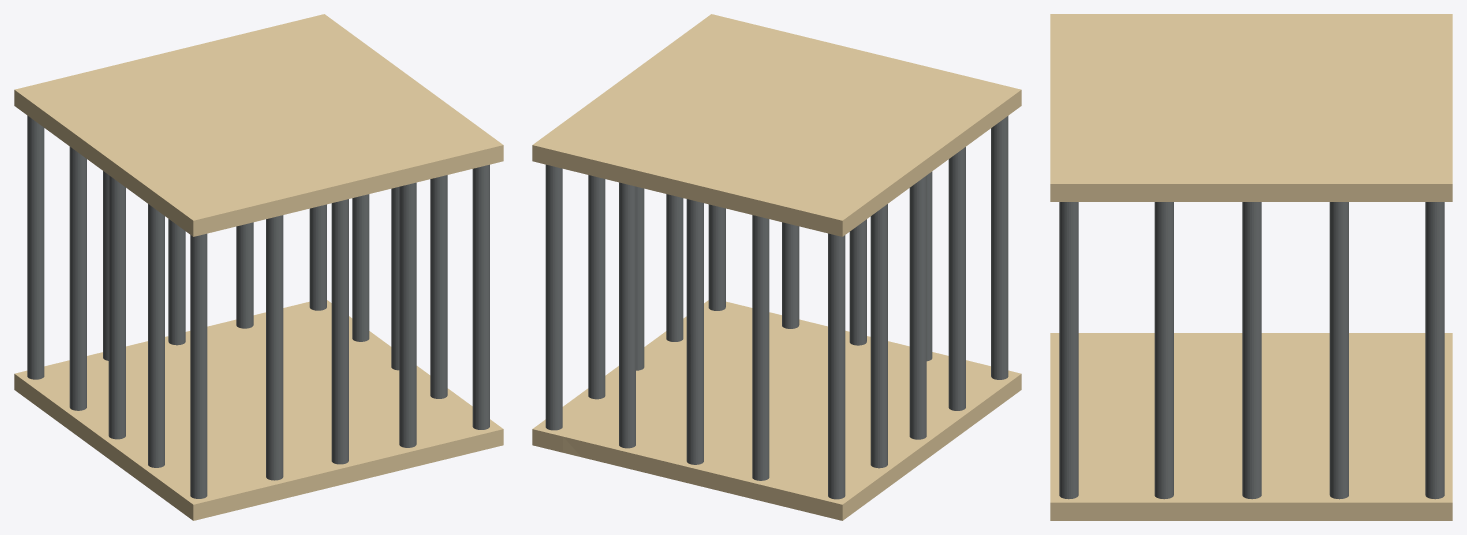
Rendered from Kafes.fbx.
The picture shows the model from 3 angles, left to right: view 1: azimuth 30°, elevation 25°; view 2: azimuth 150°, elevation 25°; view 3: azimuth 270°, elevation 25°; orthographic projection. The views are drawn at different scales.
Parts seen in each view (by area): view 1: Cube, Cube_cell.047, Cube_cell.044, Cube_cell.041, Cube_cell.063, Cube_cell.087, Cube_cell.058, Cube_cell.082, Cube_cell.077, Cube_cell.056, Cube_cell.079, Cube_cell.005 (+27 smaller); view 2: Cube, Cube_cell.047, Cube_cell.044, Cube_cell.058, Cube_cell.087, Cube_cell.041, Cube_cell.063, Cube_cell.042, Cube_cell.077, Cube_cell.057, Cube_cell.082, Cube_cell.002 (+30 smaller); view 3: Cube, Cube_cell.047, Cube_cell.044, Cube_cell.063, Cube_cell.041, Cube_cell.058, Cube_cell.087, Cube_cell.077, Cube_cell.054, Cube_cell.079, Cube_cell.010, Cube_cell.082 (+19 smaller).
Part boxes in pixels (left/top/right/bottom): Cube: left=14, top=14, right=503, bottom=520; Cube_cell.047: left=63, top=99, right=249, bottom=187; Cube_cell.044: left=130, top=28, right=294, bottom=113; Cube_cell.041: left=88, top=389, right=265, bottom=467; Cube_cell.063: left=27, top=62, right=174, bottom=119; Cube_cell.087: left=184, top=312, right=297, bottom=389; Cube_cell.058: left=62, top=336, right=242, bottom=390; Cube_cell.082: left=148, top=174, right=252, bottom=231; Cube_cell.077: left=245, top=328, right=389, bottom=390; Cube_cell.056: left=472, top=164, right=489, bottom=296; Cube_cell.079: left=61, top=383, right=211, bottom=423; Cube_cell.005: left=109, top=179, right=125, bottom=306; Cube: left=532, top=14, right=1021, bottom=520; Cube_cell.047: left=774, top=112, right=975, bottom=185; Cube_cell.044: left=591, top=119, right=780, bottom=192; Cube_cell.058: left=685, top=419, right=819, bottom=509; Cube_cell.087: left=582, top=413, right=752, bottom=482; Cube_cell.041: left=769, top=391, right=948, bottom=466; Cube_cell.063: left=728, top=157, right=869, bottom=217; Cube_cell.042: left=605, top=351, right=778, bottom=408; Cube_cell.077: left=564, top=382, right=752, bottom=420; Cube_cell.057: left=752, top=333, right=769, bottom=480; Cube_cell.082: left=926, top=75, right=1000, bottom=138; Cube_cell.002: left=909, top=304, right=926, bottom=439; Cube: left=1050, top=14, right=1452, bottom=520; Cube_cell.047: left=1152, top=14, right=1344, bottom=92; Cube_cell.044: left=1262, top=75, right=1452, bottom=153; Cube_cell.063: left=1341, top=20, right=1452, bottom=76; Cube_cell.041: left=1206, top=333, right=1301, bottom=419; Cube_cell.058: left=1289, top=359, right=1452, bottom=418; Cube_cell.087: left=1287, top=418, right=1452, bottom=475; Cube_cell.077: left=1281, top=418, right=1385, bottom=502; Cube_cell.054: left=1271, top=108, right=1392, bottom=201; Cube_cell.079: left=1289, top=340, right=1383, bottom=404; Cube_cell.010: left=1391, top=152, right=1452, bottom=201; Cube_cell.082: left=1050, top=14, right=1156, bottom=46.
Bounding box in the file's own units: 200 × 185 × 200.
